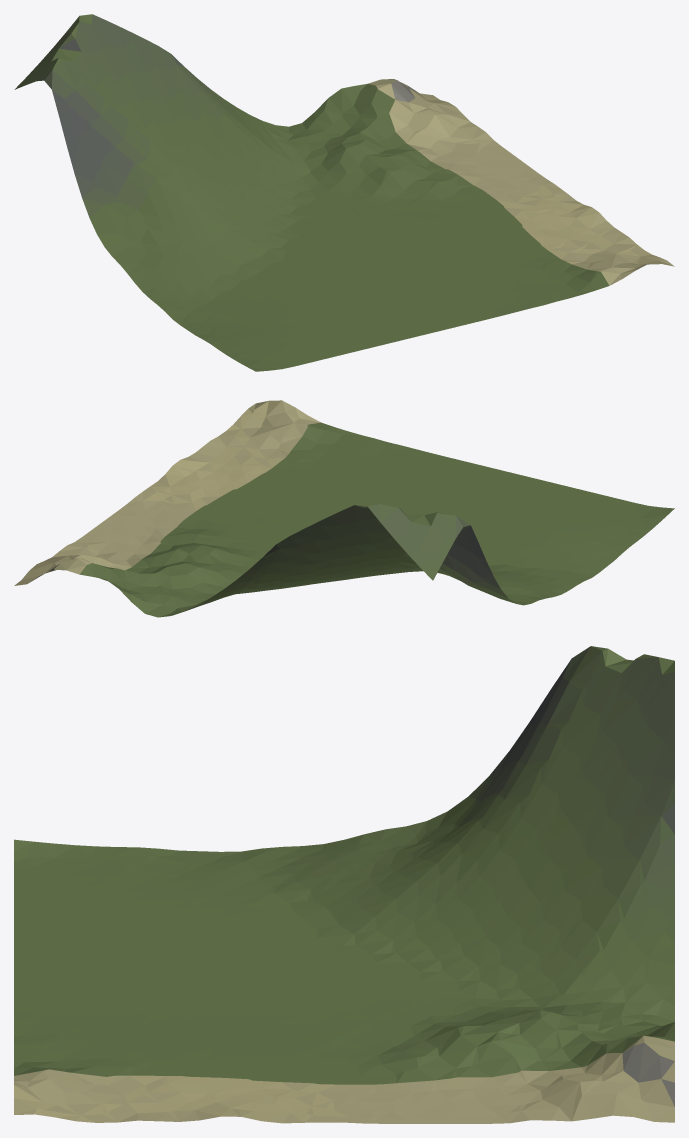
Rendered from Ground_-2_-5.glb.
3 views of the same model, one above another, from view 1: azimuth 30°, elevation 25°; view 2: azimuth 150°, elevation 25°; view 3: azimuth 270°, elevation 25° (orthographic). The views are drawn at different scales.
Visible parts, largest first — view 1: Ground_-2_-5; view 2: Ground_-2_-5; view 3: Ground_-2_-5.
Boxes of the visible parts, left/top/right/bottom form: Ground_-2_-5: left=14, top=14, right=674, bottom=371; Ground_-2_-5: left=14, top=400, right=674, bottom=617; Ground_-2_-5: left=14, top=646, right=674, bottom=1123.
Bounding box in the file's own units: 768 × 301 × 768.
